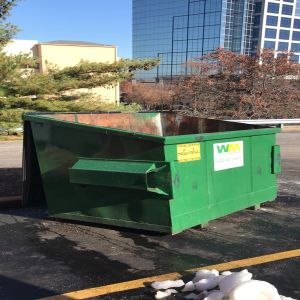Dumpster: (19, 109, 283, 239)
